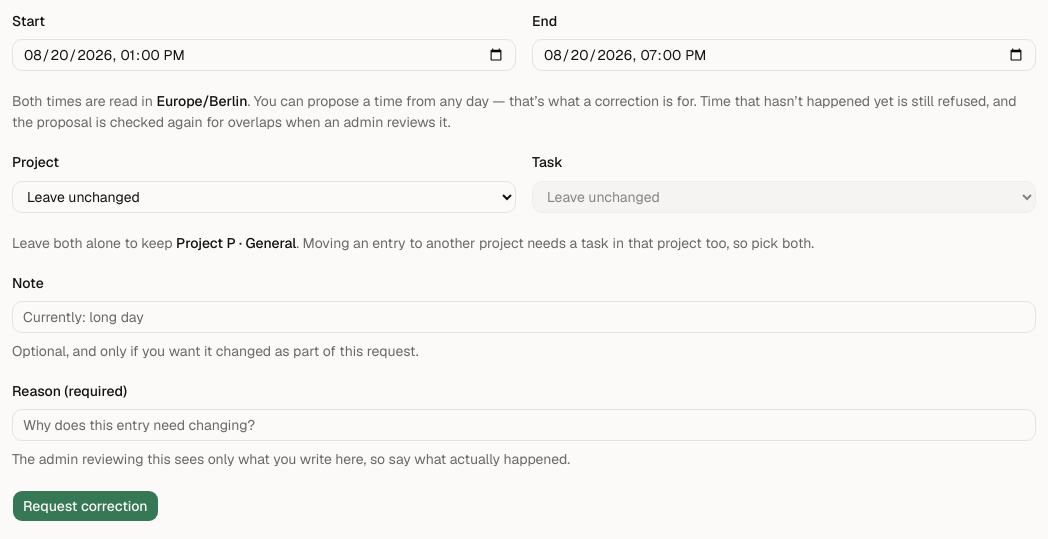
Test case: AmendCorrectionForm › refuses to file a request with no reason (§3.9)
The image size is (1048, 539).
Click the button "Request correction" at (85, 506), box 12,490 -> 159,522
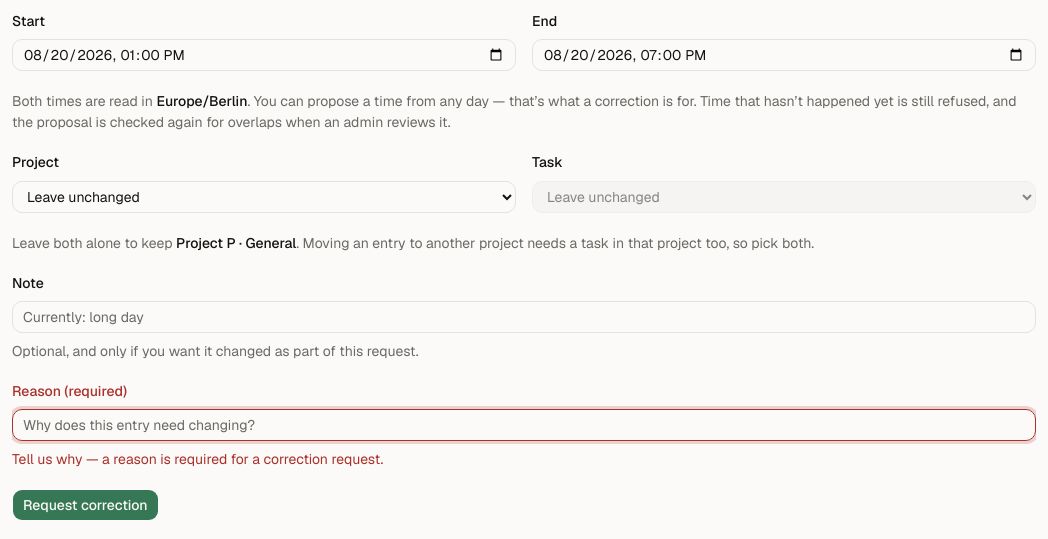
expect the text "Tell us why — a reason is required for a correction request." is shown: met, box 12,450 -> 383,468
